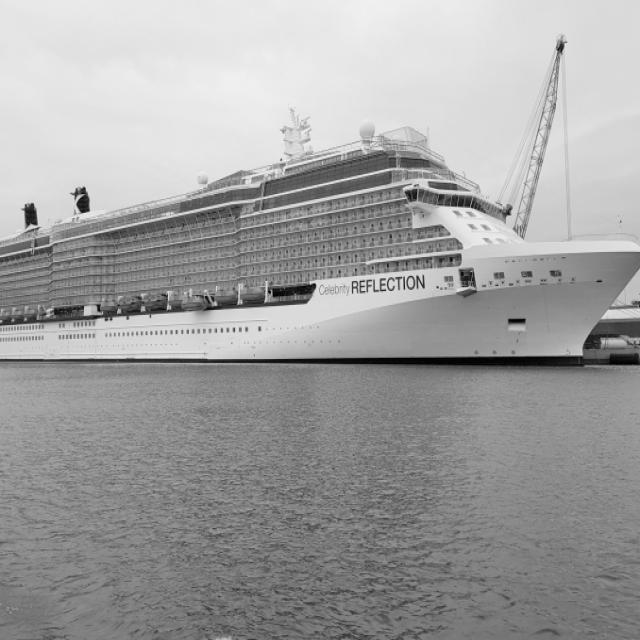cruises: (1, 109, 640, 374)
